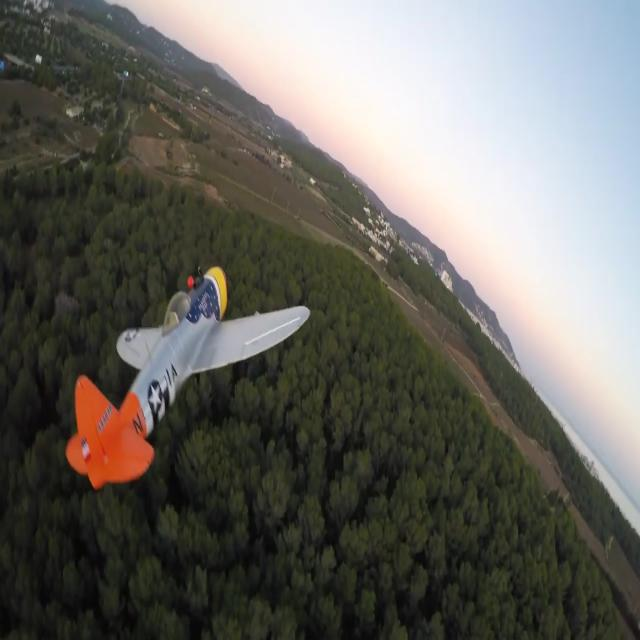iha: (65, 262, 311, 492)
